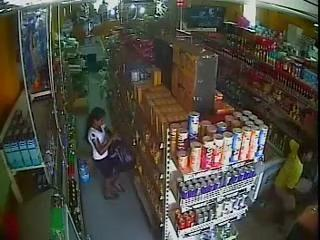shoplifting: (85, 104, 137, 200)
